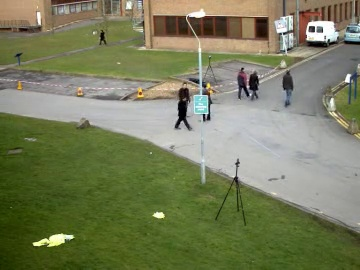person: (174, 87, 191, 129), (175, 90, 190, 129), (173, 89, 188, 128)
